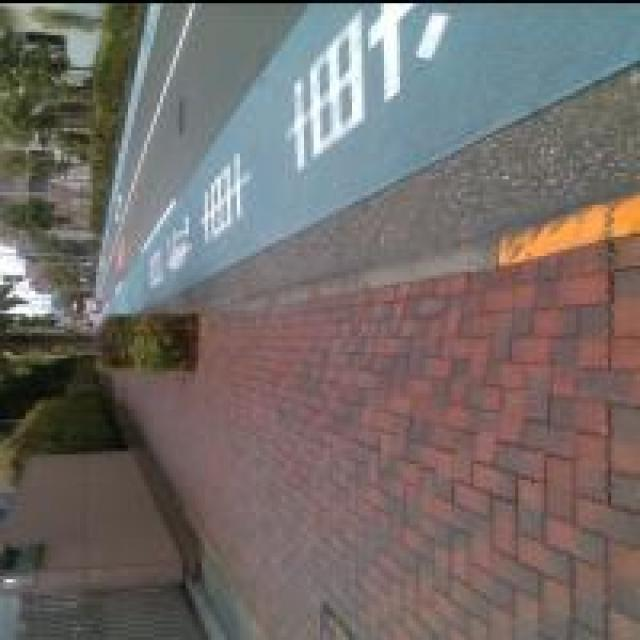Obstacle: (100, 314, 198, 370)
Road: (98, 4, 639, 312), (218, 192, 639, 309)
Sidewalk: (117, 239, 639, 639)
